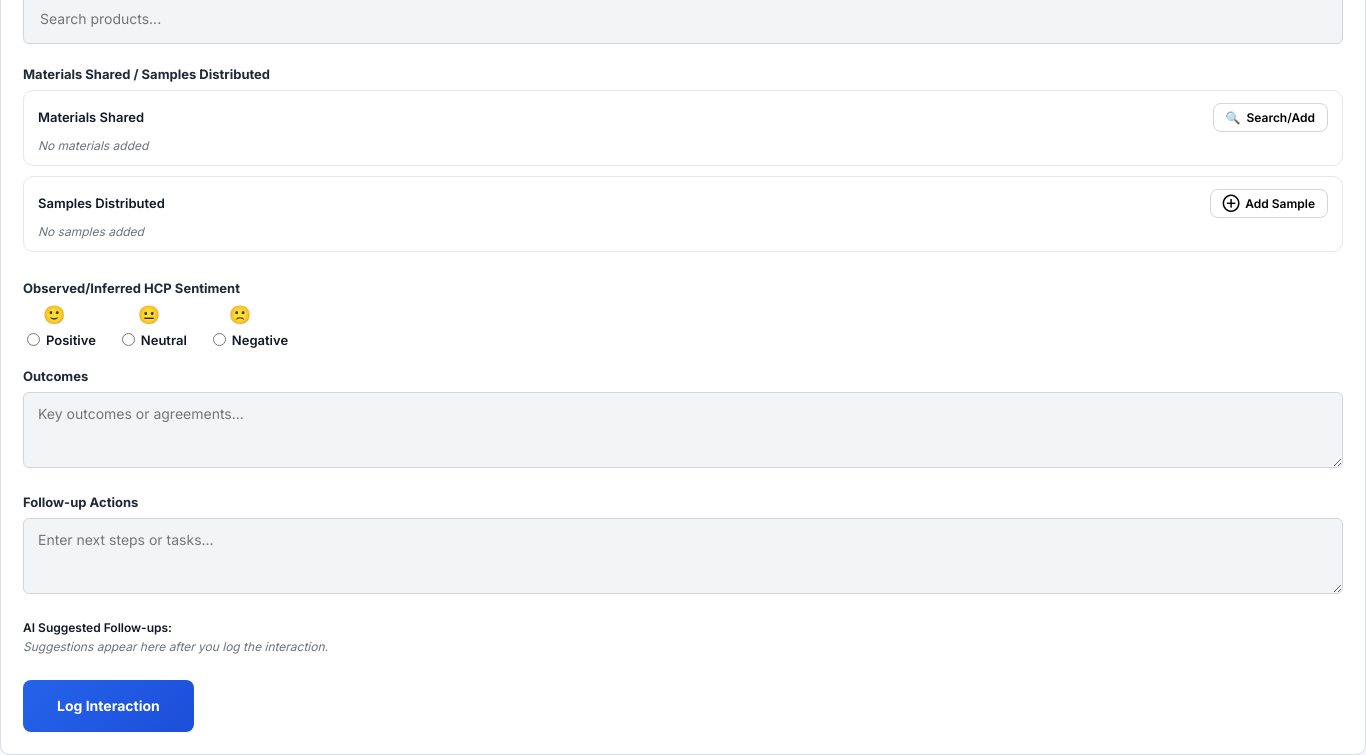
Test: admin-only product catalog in the form › shows the server message for a rejected product
(page scrolled)
Click the button "Log Interaction".
click(108, 706)  # box x1=23 y1=680 x2=194 y2=732
(page scrolled)
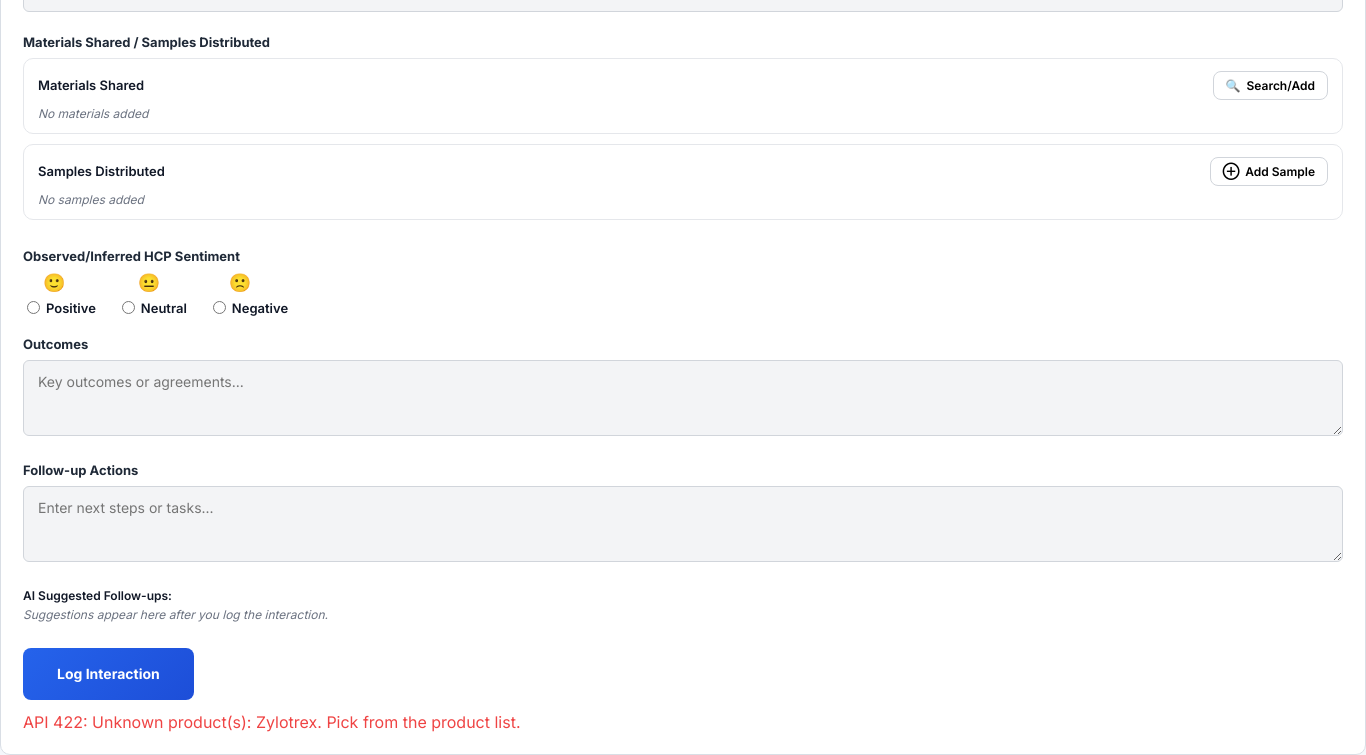
Check: the text "Pick from the product list" is shown, box x1=23 y1=712 x2=520 y2=732
